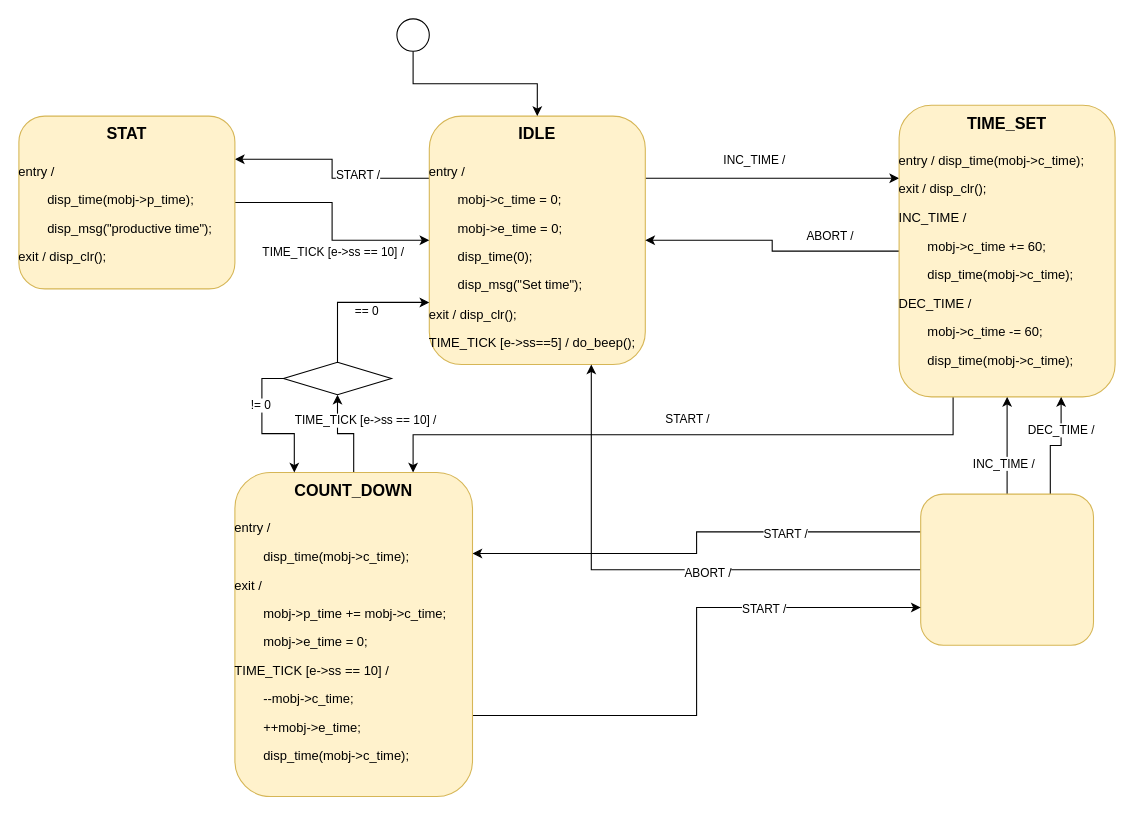
Some shapes in this 1134 by 815 pixel diagram are drawn without their labels. The box of each missing label's shape, as (x1, y1, x2, y2) in pixels:
mobj->c_time: (282, 361, 392, 395)
PAUSED entry / disp_msg("Paused"); exit / disp_clr();: (920, 493, 1094, 645)
